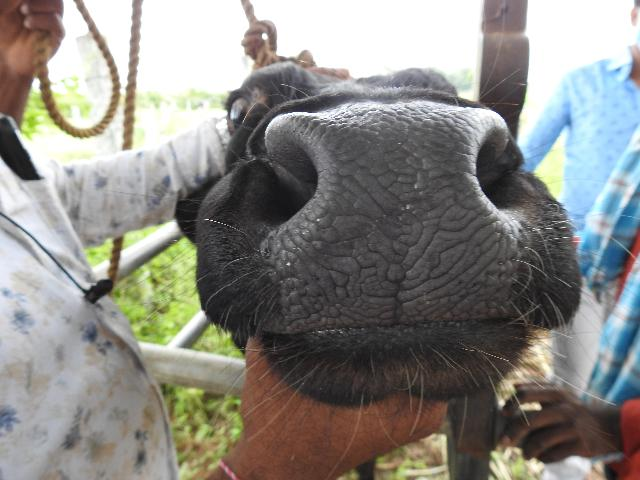Muzzle: (312, 113, 476, 311)
